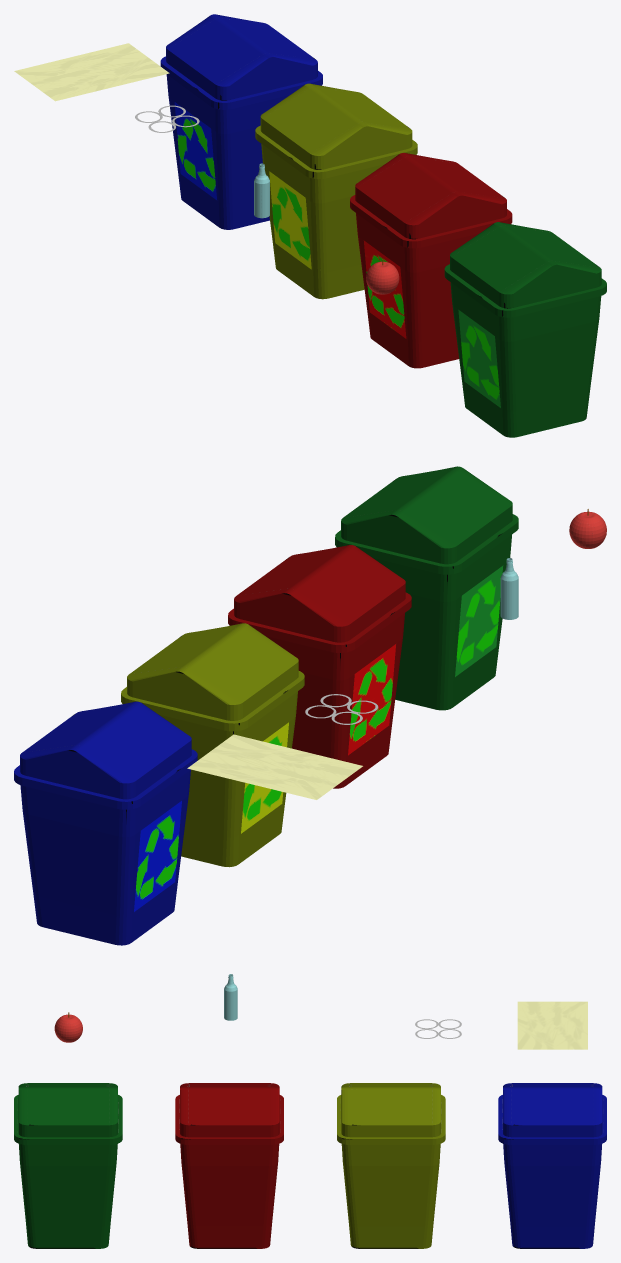
Rendered from Bins and waste.fbx.
3 renders of one model, top to bottom at view 1: azimuth 30°, elevation 25°; view 2: azimuth 150°, elevation 25°; view 3: azimuth 270°, elevation 25°, orthographic. The views are drawn at different scales.
Parts seen in each view (by area): view 1: Cube.005, Cube, Cube.011, Cube.008, Plane, Cube.001, Cube.004, Cube.010, Cube.007, Cube.009, Cube.003, Cube.006 (+3 smaller); view 2: Cube.008, Cube.005, Cube.011, Cube, Plane, Cube.004, Cube.007, Cube.010, Cube.001, Cube.006, Cube.003, Cube.002 (+3 smaller); view 3: Cube, Cube.011, Cube.005, Cube.008, Plane, Cube.001, Cube.004, Cube.007, Cube.010, Sphere, Circle.
Part boxes in pixels (left/top/right/bottom): Cube.005: left=444, top=222, right=606, bottom=437; Cube: left=350, top=153, right=512, bottom=368; Cube.011: left=255, top=83, right=417, bottom=299; Cube.008: left=160, top=14, right=322, bottom=229; Plane: left=14, top=43, right=169, bottom=101; Cube.001: left=359, top=156, right=502, bottom=221; Cube.004: left=454, top=225, right=597, bottom=290; Cube.010: left=265, top=87, right=407, bottom=151; Cube.007: left=170, top=18, right=313, bottom=82; Cube.009: left=269, top=171, right=311, bottom=269; Cube.003: left=458, top=309, right=500, bottom=407; Cube.006: left=174, top=102, right=216, bottom=199; Cube.008: left=14, top=701, right=197, bottom=945; Cube.005: left=335, top=466, right=518, bottom=710; Cube.011: left=121, top=623, right=304, bottom=867; Cube: left=228, top=545, right=411, bottom=788; Plane: left=187, top=734, right=362, bottom=799; Cube.004: left=346, top=470, right=507, bottom=543; Cube.007: left=25, top=705, right=186, bottom=778; Cube.010: left=132, top=627, right=293, bottom=700; Cube.001: left=239, top=549, right=400, bottom=621; Cube.006: left=134, top=801, right=181, bottom=911; Cube.003: left=455, top=565, right=503, bottom=676; Cube.002: left=348, top=644, right=395, bottom=755; Cube: left=175, top=1083, right=283, bottom=1248; Cube.011: left=337, top=1083, right=445, bottom=1248; Cube.005: left=14, top=1083, right=122, bottom=1248; Cube.008: left=498, top=1083, right=606, bottom=1248; Plane: left=517, top=1001, right=587, bottom=1049; Cube.001: left=188, top=1083, right=270, bottom=1123; Cube.004: left=27, top=1083, right=109, bottom=1123; Cube.007: left=511, top=1083, right=593, bottom=1123; Cube.010: left=350, top=1083, right=432, bottom=1123; Sphere: left=54, top=1012, right=82, bottom=1042; Circle: left=224, top=974, right=237, bottom=1020.
Bounding box in the file's own units: 320 × 255 × 735.
